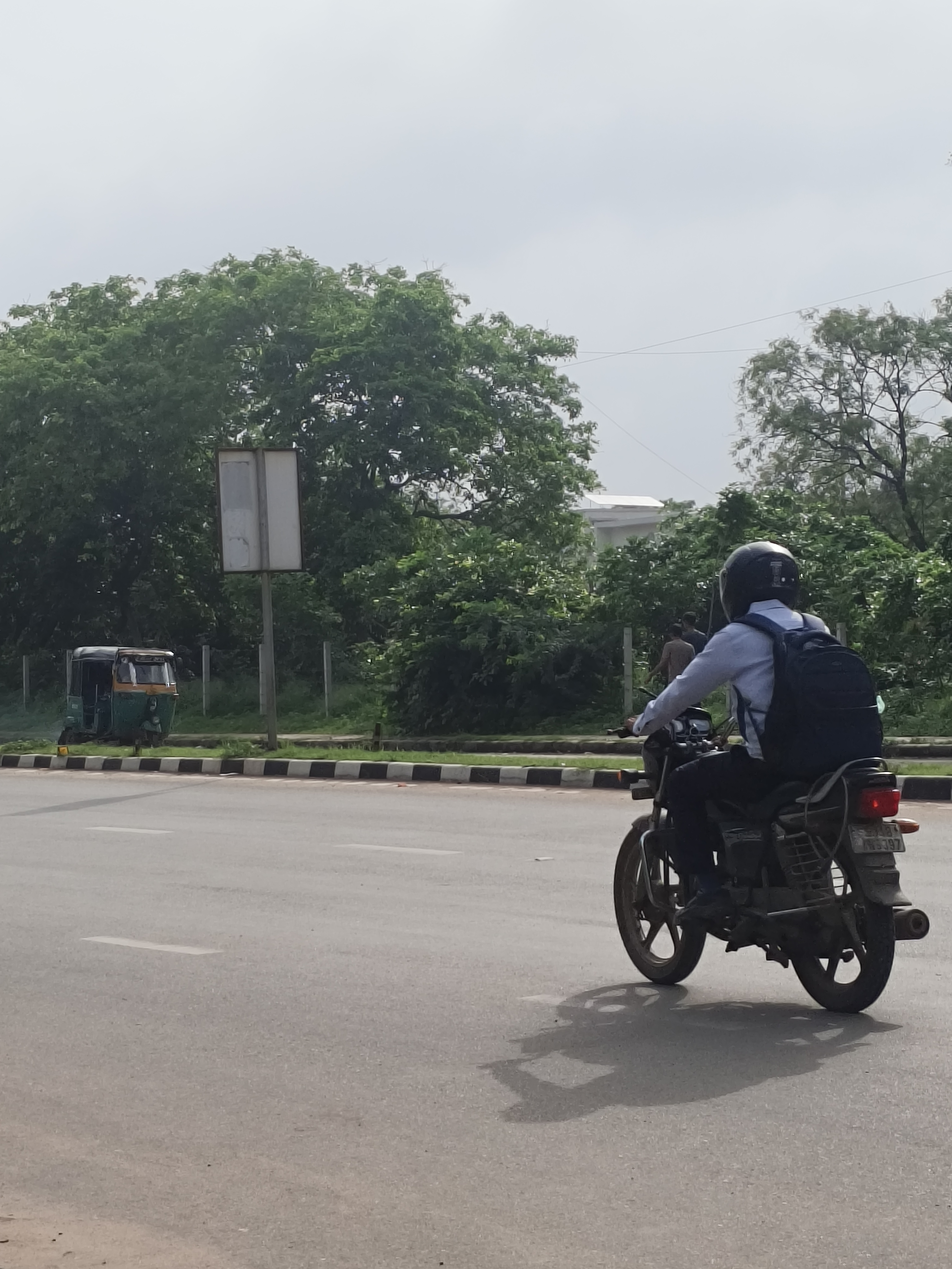BikeWithRider: (596, 531, 940, 1023)
Helmet: (709, 533, 813, 626)
